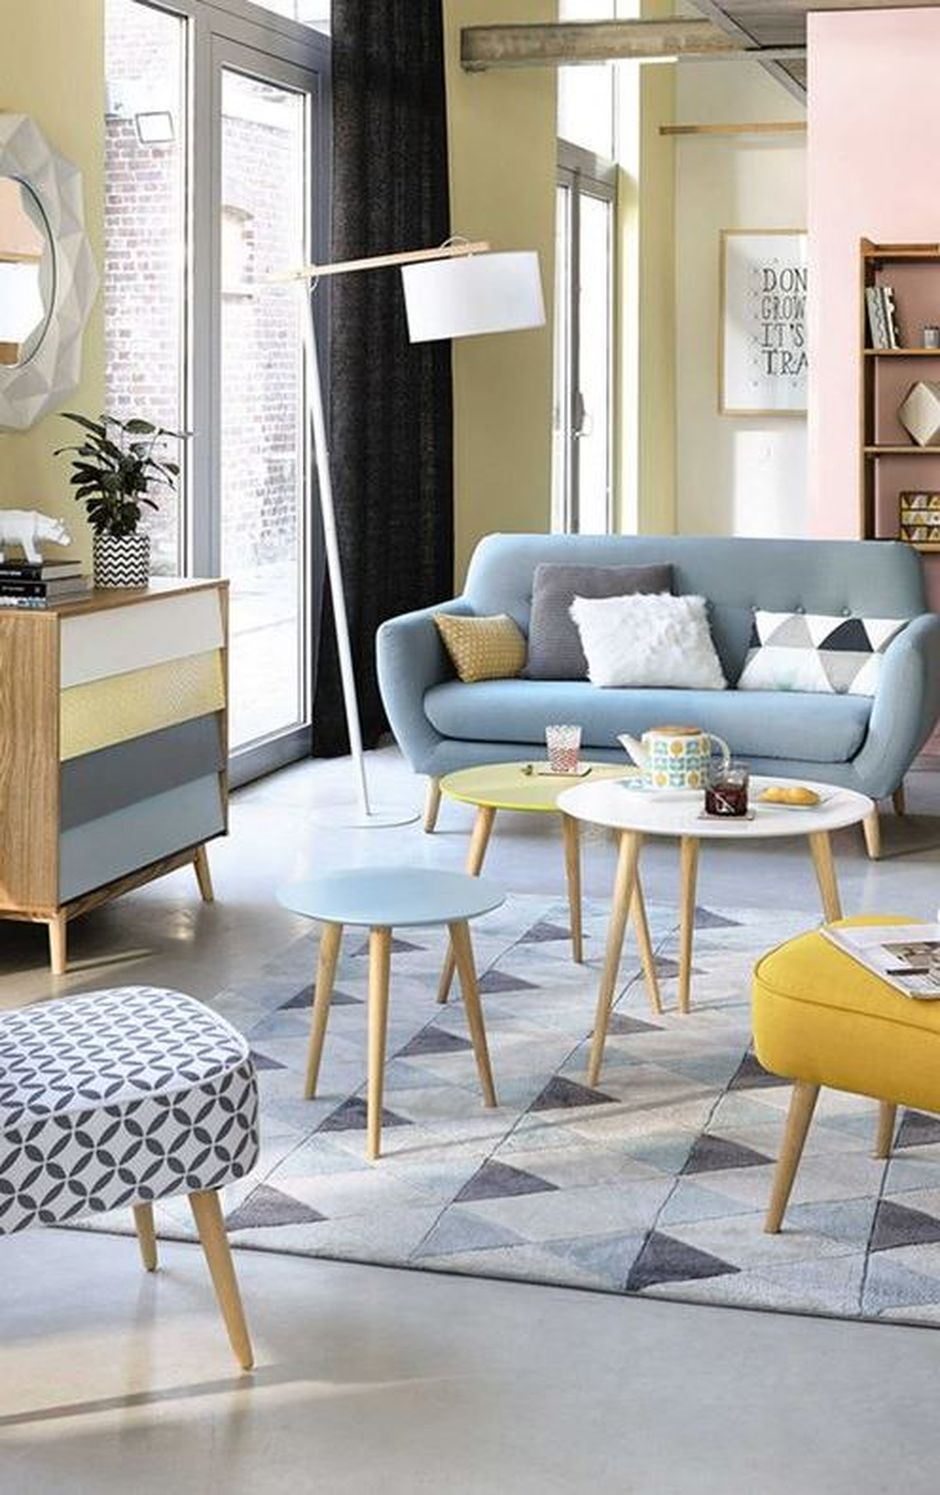biru: (275, 856, 512, 939), (759, 689, 936, 773)
kuning: (755, 915, 940, 1096), (44, 671, 231, 717)
putih: (383, 257, 562, 339), (567, 599, 734, 685), (62, 596, 220, 659), (2, 501, 73, 565)
